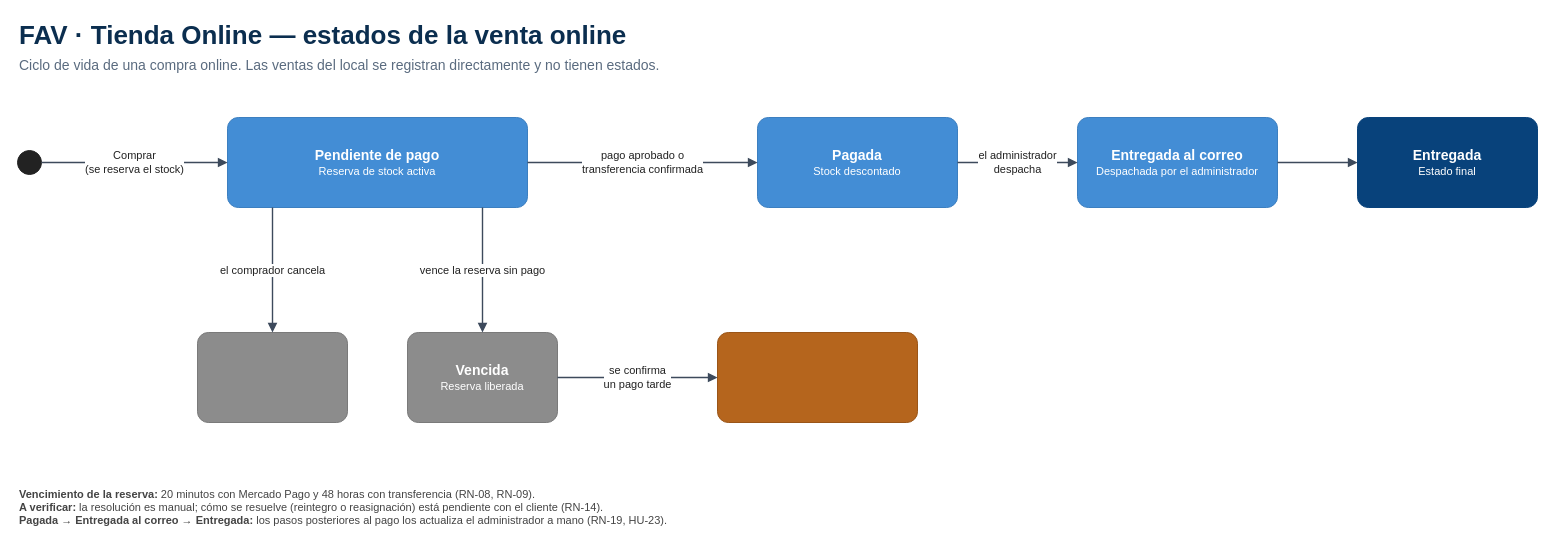
This 1555x559 diagram has some shape labels left out. The shapes that lost their labels are listed below. From the top down, each one's centre as x and y in pixels, then its label:
At point 272,377: "Cancelada Estado final".
At point 817,377: "A verificar Resolución manual".
